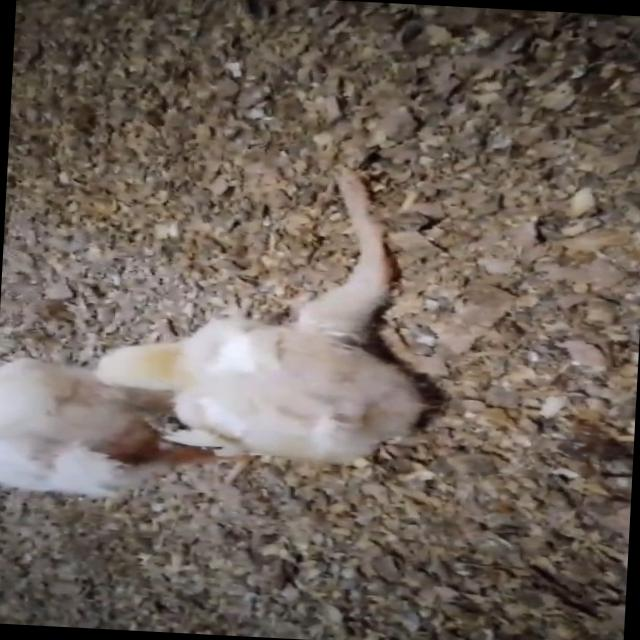abnormal chicken: (77, 94, 504, 472)
